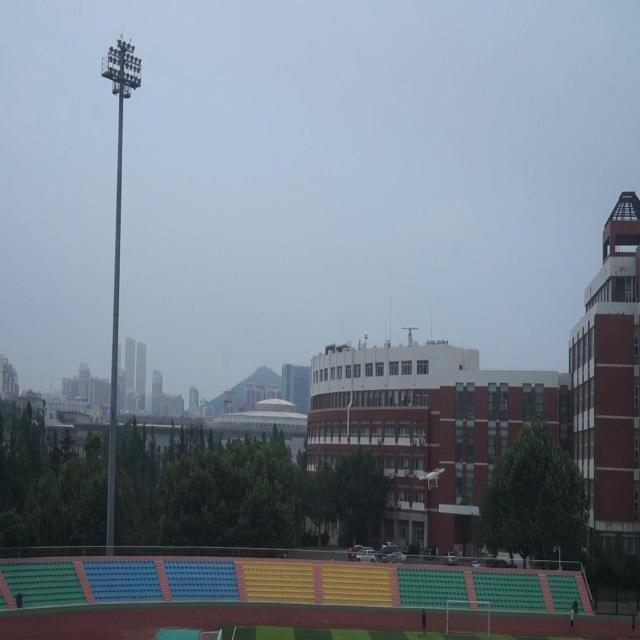drone: (417, 466, 448, 490)
